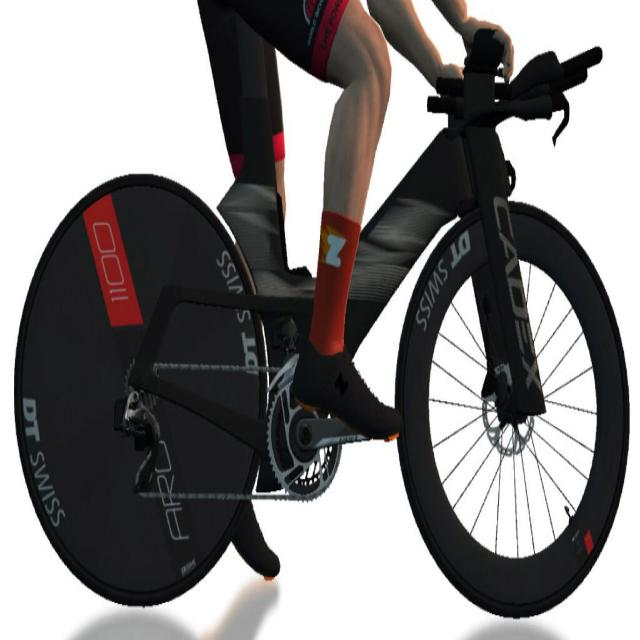TT-bike: (10, 30, 634, 622)
